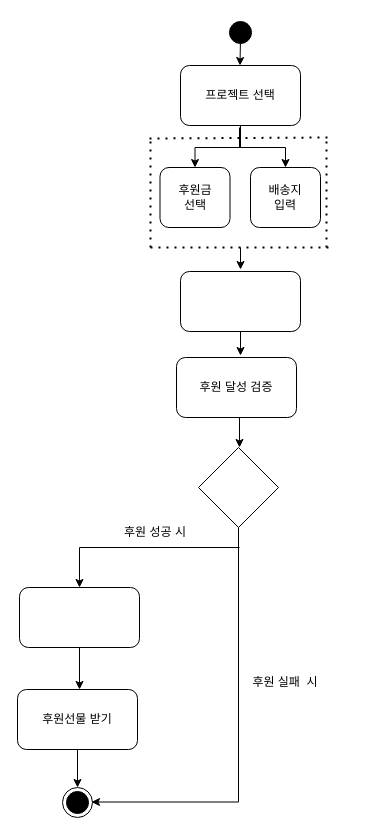
This 381x835 diagram has some shape labels left out. The centre of each missing label's shape, as x and y in pixels:
카드결제: (79,617)
후원 완료: (240,301)
